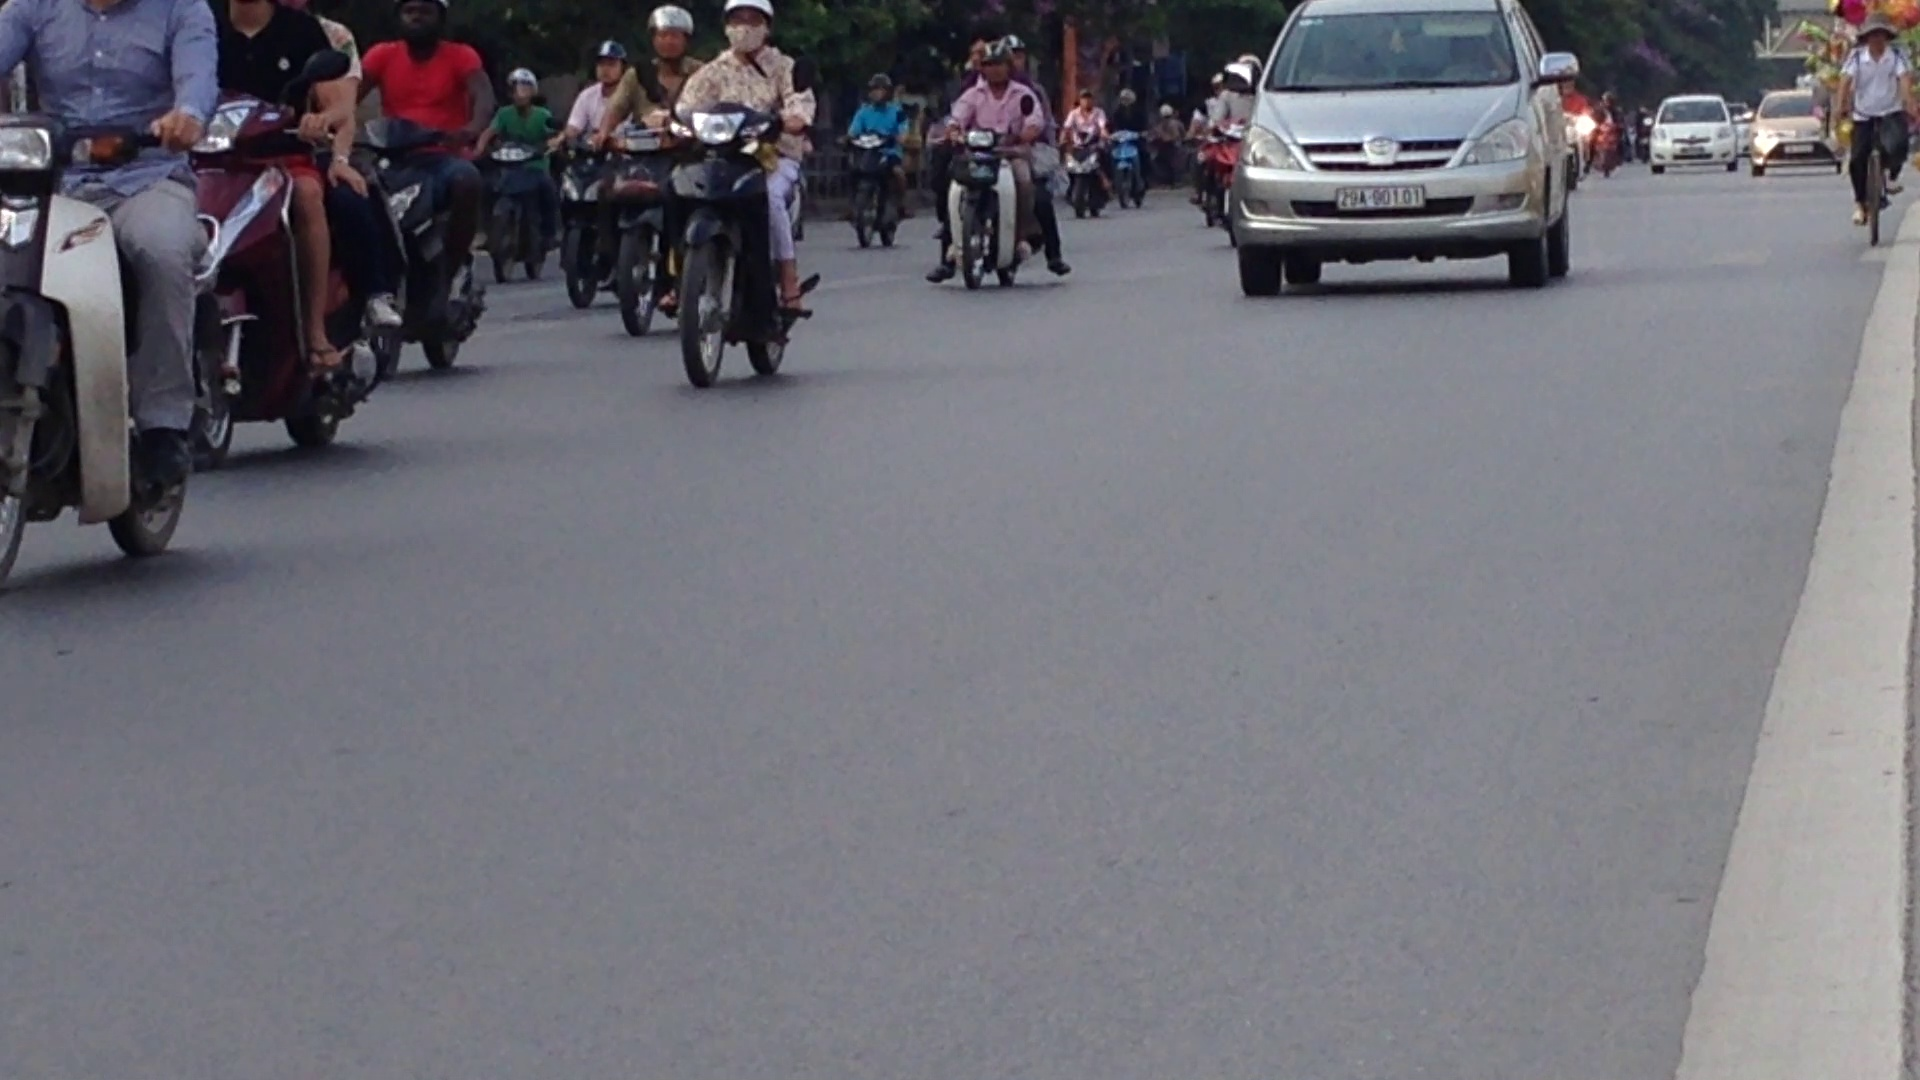person: (1332, 178, 1432, 214)
